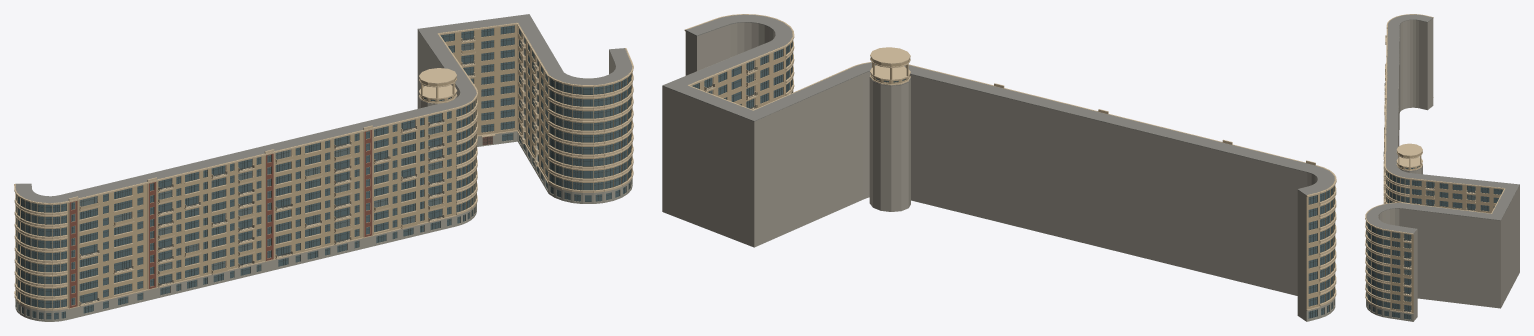
File: hongkou-embankment-building-riverfront-raw.glb
3 renders of one model, left to right at view 1: azimuth 30°, elevation 25°; view 2: azimuth 150°, elevation 25°; view 3: azimuth 270°, elevation 25°, orthographic. The views are drawn at different scales.
Parts seen in each view (by area): view 1: 河滨大楼临苏州河立面; view 2: 河滨大楼临苏州河立面; view 3: 河滨大楼临苏州河立面.
Boxes of the visible parts, x1,y1,x2,y2 form: 河滨大楼临苏州河立面: (14, 14, 633, 321); 河滨大楼临苏州河立面: (662, 14, 1336, 321); 河滨大楼临苏州河立面: (1365, 14, 1519, 321).
Size of the model in its own units: 170 by 37.33 by 50.56.
